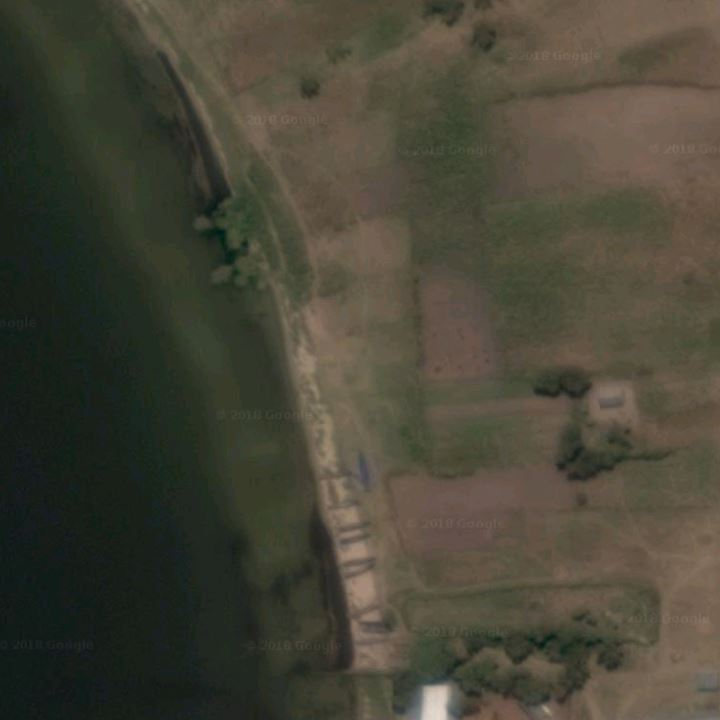boat: (349, 600, 384, 620), (345, 562, 379, 581), (356, 453, 372, 491), (339, 555, 379, 570), (352, 636, 396, 648), (341, 533, 372, 548), (357, 620, 395, 632), (336, 522, 373, 533), (325, 501, 361, 511)
